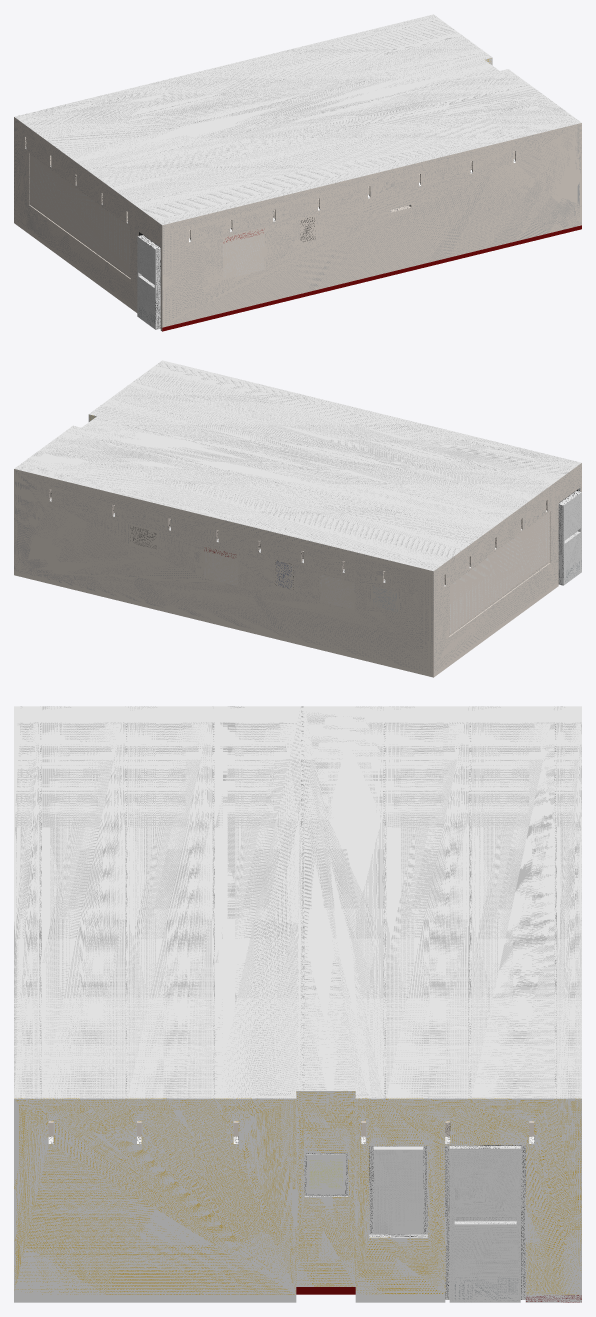
Rendered from Lab.dae.
3 renders of one model, top to bottom at view 1: azimuth 30°, elevation 25°; view 2: azimuth 150°, elevation 25°; view 3: azimuth 270°, elevation 25°, orthographic. The views are drawn at different scales.
Visible parts, largest first — view 1: SketchUp (×23); view 2: SketchUp (×26); view 3: SketchUp (×24).
Part boxes in pixels (x1,y1,x2,y2): SketchUp (×23): (14, 14, 581, 331); SketchUp (×26): (14, 360, 581, 677); SketchUp (×24): (14, 706, 581, 1302).
Size of the model in its own units: 449 by 273 by 108.
